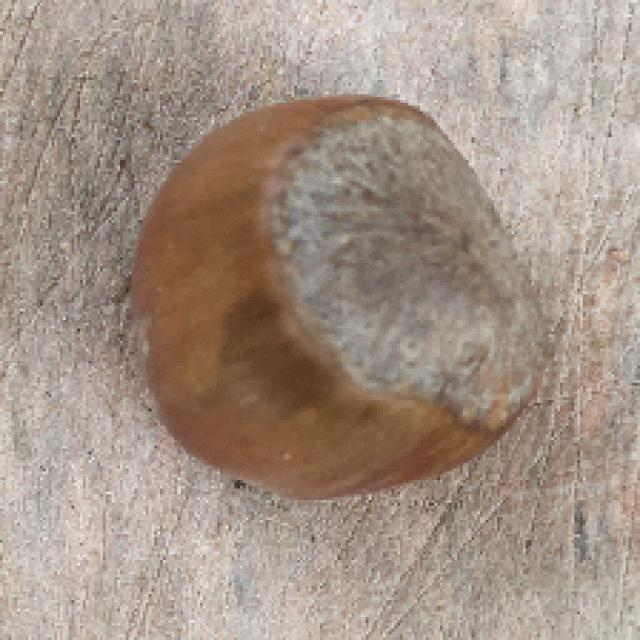qualityHazelnut: (130, 88, 537, 503)
